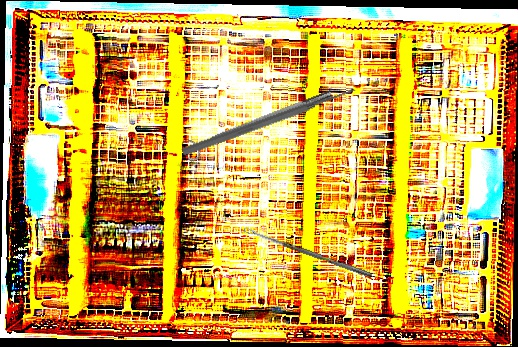Fixation Ring: (180, 83, 337, 164)
Pusher: (180, 83, 359, 159)
Surgical Spoon: (243, 225, 373, 279)
